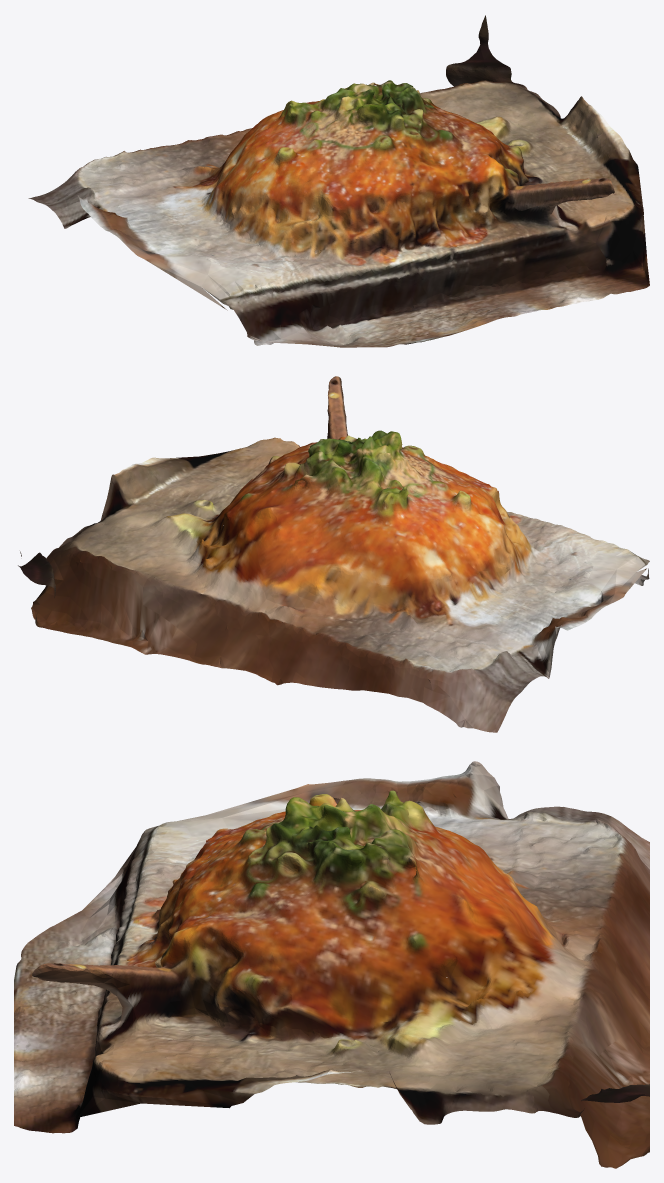
The model's file is okonomiyaki.glb.
3 views of the same model, one above another, from view 1: azimuth 30°, elevation 25°; view 2: azimuth 150°, elevation 25°; view 3: azimuth 270°, elevation 25° (orthographic). The views are drawn at different scales.
Visible parts, largest first — view 1: mesh; view 2: mesh; view 3: mesh.
Part boxes in pixels (x1,y1,x2,y2): mesh: (28,15,649,347); mesh: (18,376,649,732); mesh: (14,761,649,1168).
Bounding box in the file's own units: 0.3728 × 0.1219 × 0.3159.
1 material, 1 textured.
